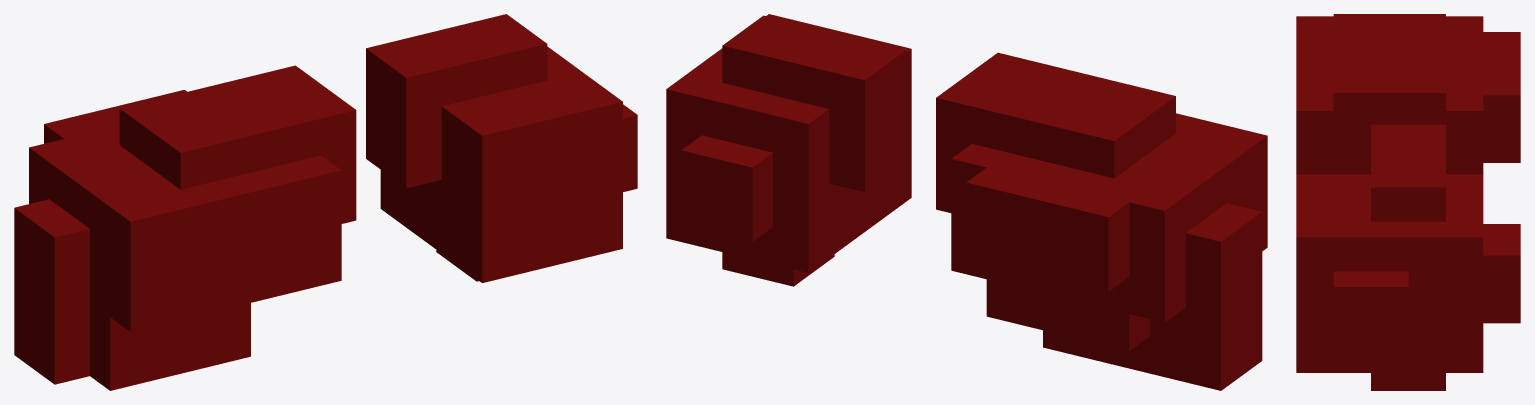
File: 2 asteroids.obj
3 views of the same model, side by side, from view 1: azimuth 30°, elevation 25°; view 2: azimuth 150°, elevation 25°; view 3: azimuth 270°, elevation 25° (orthographic). The views are drawn at different scales.
Bounding box in the file's own units: 16 × 6 × 6.
Materials: 1 (1 with a texture image).
